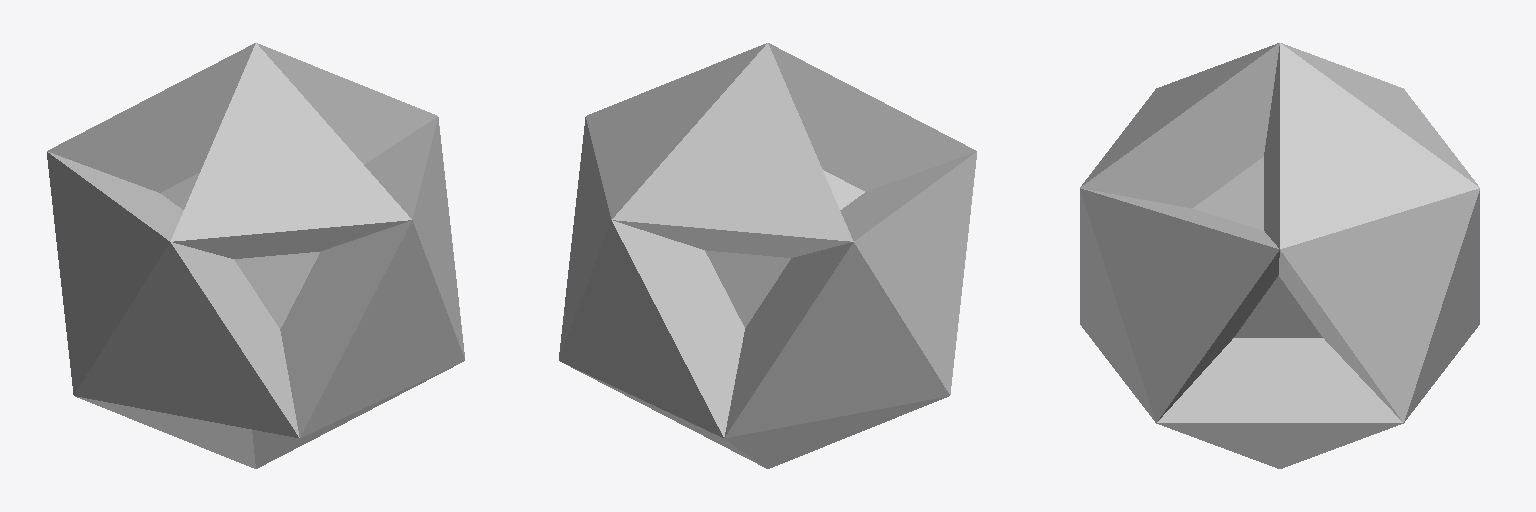
The model's file is frost_bomb.obj.
3 renders of one model, left to right at view 1: azimuth 30°, elevation 25°; view 2: azimuth 150°, elevation 25°; view 3: azimuth 270°, elevation 25°, orthographic.
Visible parts, largest first — view 1: Icosphere; view 2: Icosphere; view 3: Icosphere.
Boxes of the visible parts, x1=… form: Icosphere: x1=47, y1=43, x2=464, y2=468; Icosphere: x1=559, y1=43, x2=976, y2=468; Icosphere: x1=1080, y1=43, x2=1479, y2=468.
Bounding box in the file's own units: 0.2325 × 0.26 × 0.2212.